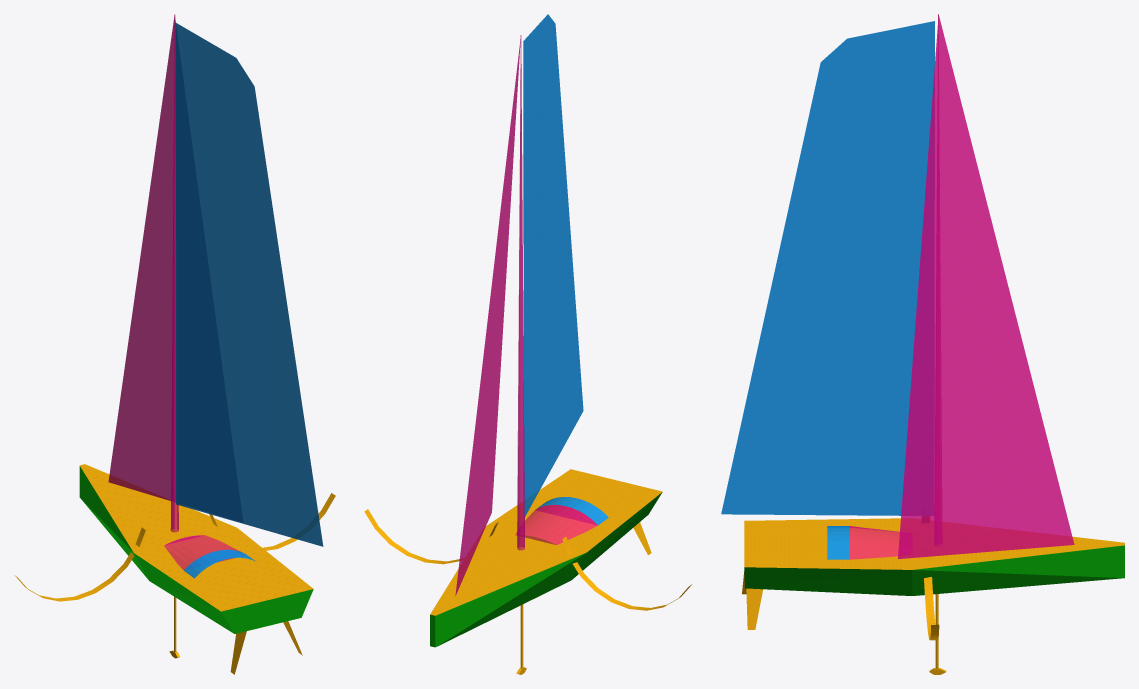
File: IMOCA_FOC.dae
3 renders of one model, left to right at view 1: azimuth 30°, elevation 25°; view 2: azimuth 150°, elevation 25°; view 3: azimuth 270°, elevation 25°, orthographic. The views are drawn at different scales.
Parts seen in each view (by area): view 1: SketchUp (×8); view 2: SketchUp (×9); view 3: SketchUp (×7).
Part boxes in pixels (left/top/right/bottom): SketchUp (×8): left=14, top=14, right=323, bottom=633; SketchUp (×9): left=364, top=14, right=691, bottom=647; SketchUp (×7): left=721, top=15, right=1124, bottom=640.
Size of the model in its own units: 71165 by 75157 by 135626.
